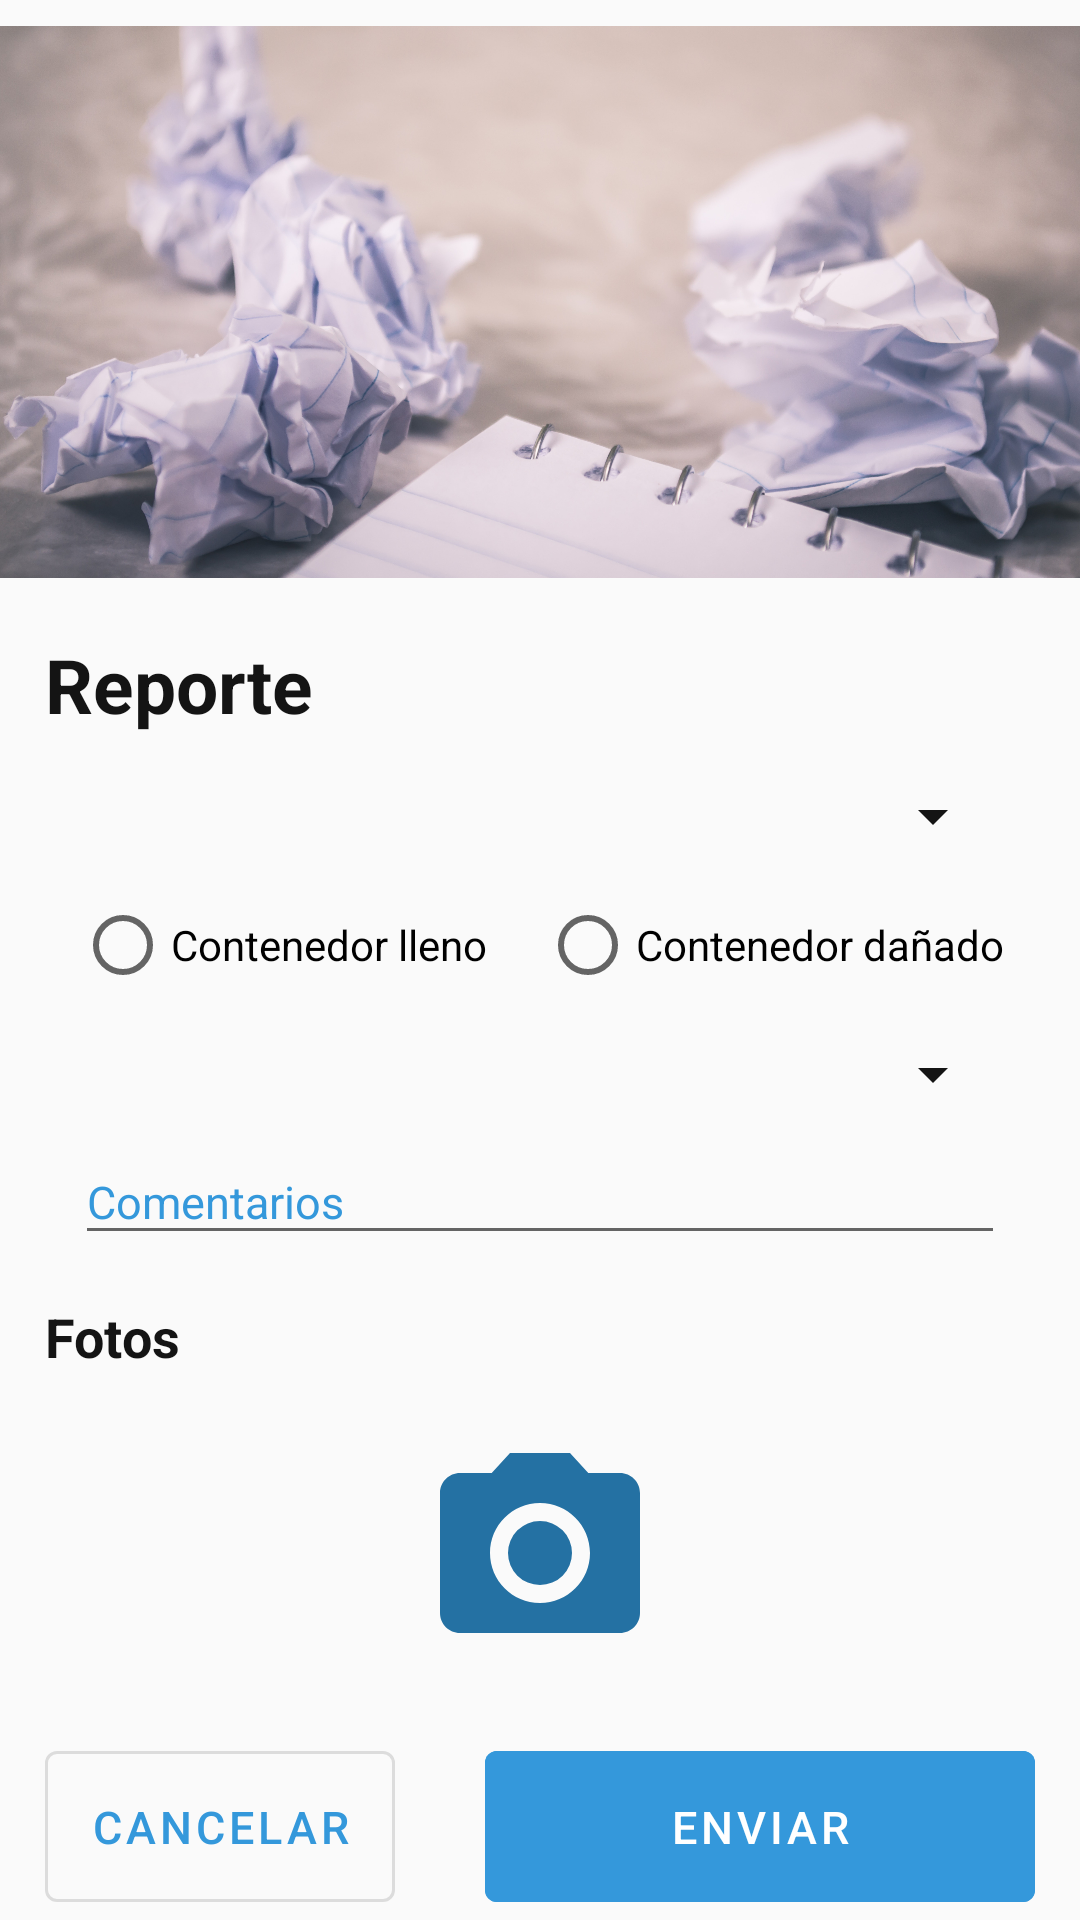

Icon click points for this 1080*1920 phone screenshot, format (x=x, y=y):
Upload Photo: (x=540, y=1543)
